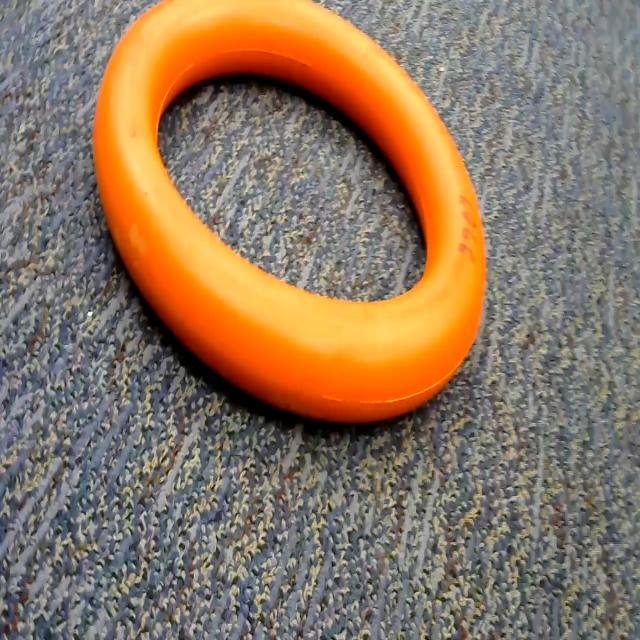note: (88, 0, 518, 449)
